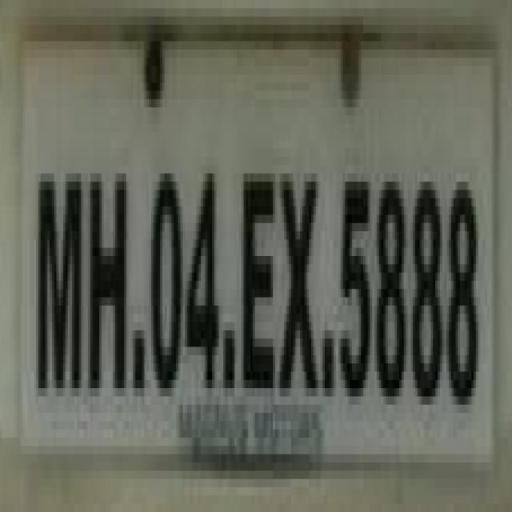number plate: (17, 1, 512, 446)
